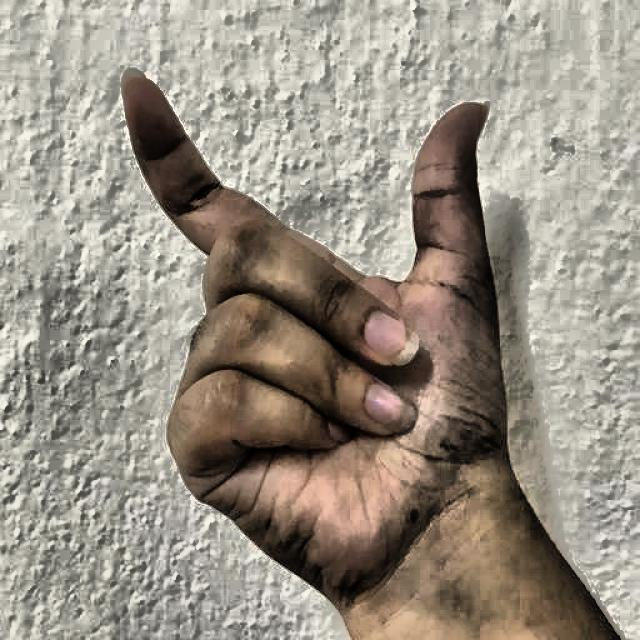ChandraBindu: (101, 31, 544, 620)
